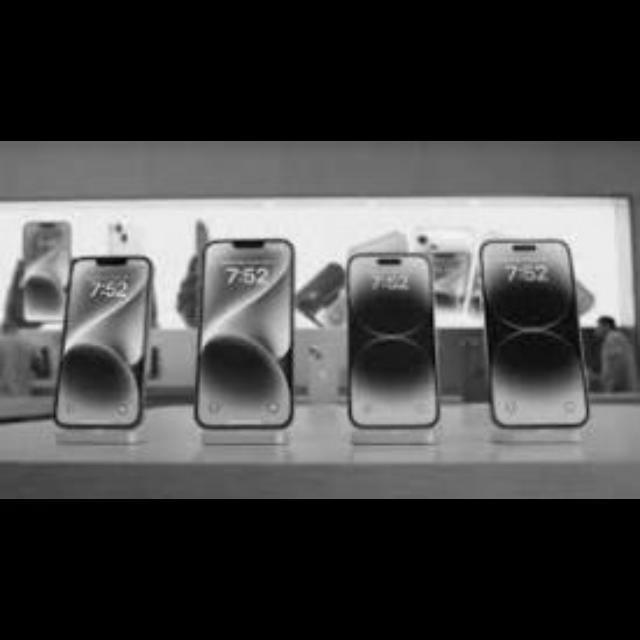fake: (467, 226, 598, 456), (326, 238, 452, 458), (182, 230, 302, 456), (51, 228, 159, 462)
